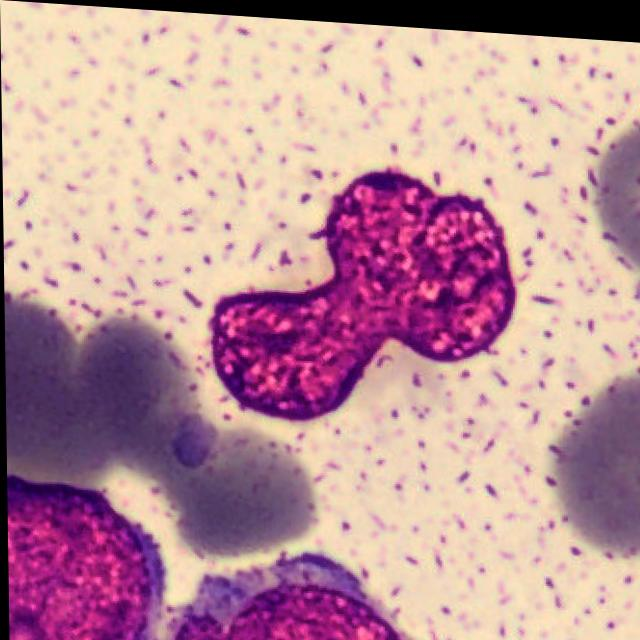Restos celulares: (208, 158, 516, 415)
